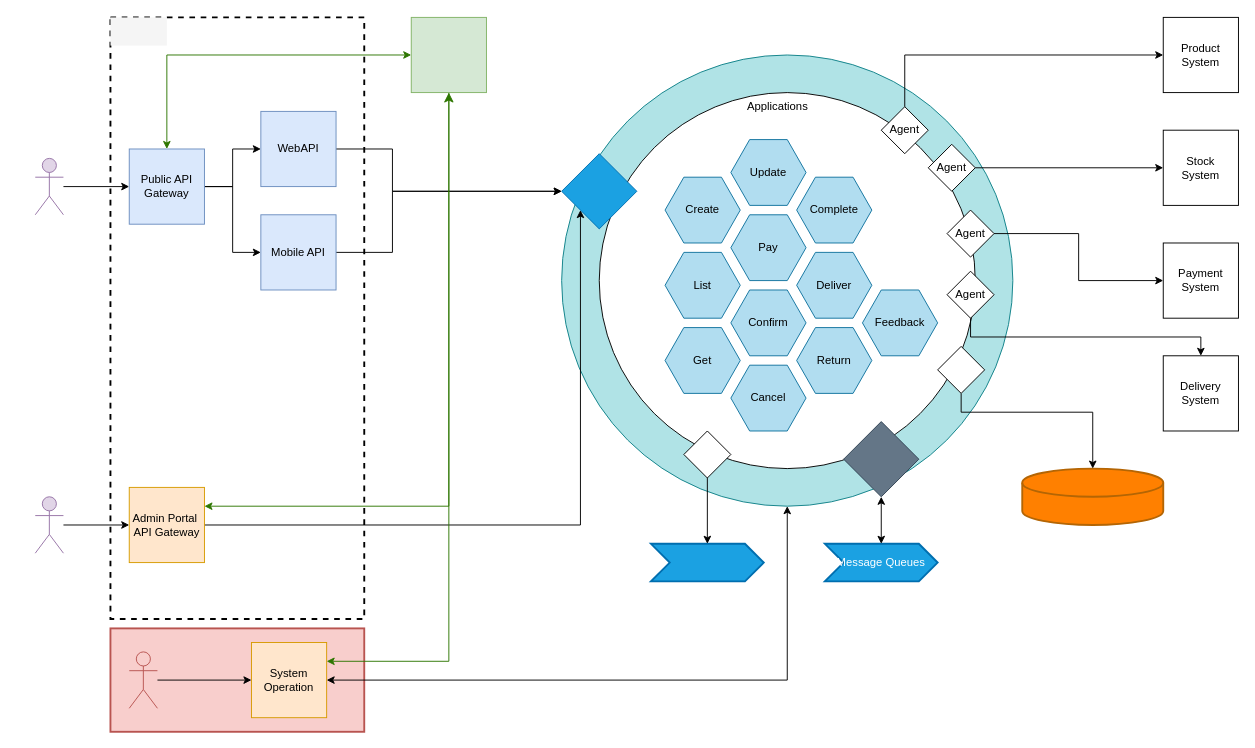
The diagram is 1255 pixels wide and 748 high, and some of its shapes have lost their labels. The shapes that lost their labels are listed below. From the top down, each one's centre as x and y in pixels, then its label:
At pixel 138 31: "API Layer".
At pixel 448 54: "IAM".
At pixel 48 186: "Customer".
At pixel 599 191: "APIs".
At pixel 881 459: "Back-ground Services".
At pixel 1092 496: "Order Database".
At pixel 48 524: "Administrator".
At pixel 707 562: "Event Topics".
At pixel 142 679: "Operator".
